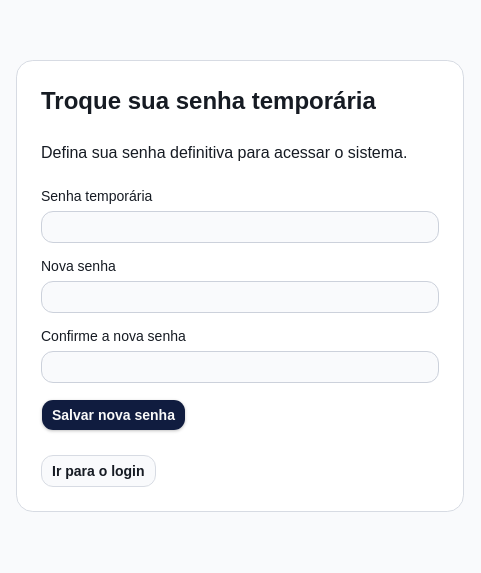
Test: timeout não repete gravação e orienta verificar com novo login
Type "temporaria" into the password field labelled "Senha temporária".
click(240, 227); type("temporaria")  # box [41,211,439,243]
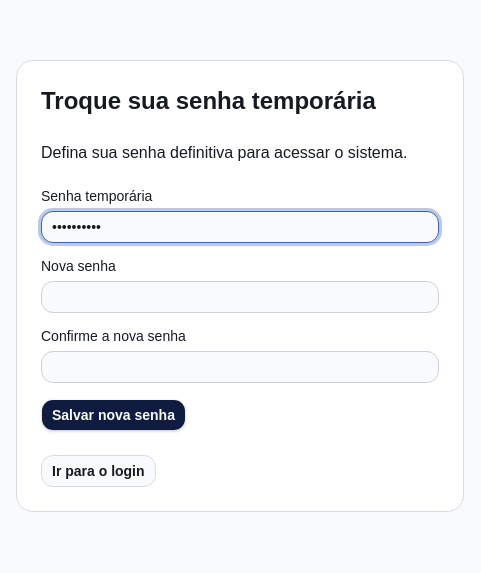
Type "definitiva123" into the password field labelled "Nova senha".
click(240, 297); type("definitiva123")  # box [41,281,439,313]
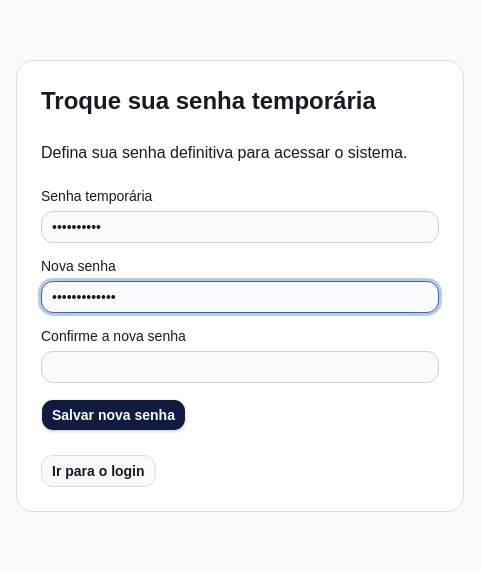
Type "definitiva123" into the password field labelled "Confirme a nova senha".
click(240, 367); type("definitiva123")  # box [41,351,439,383]
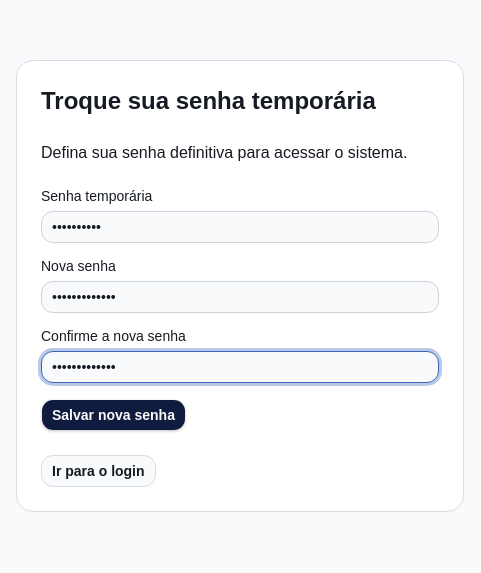
Click the button "Salvar nova senha".
click(114, 415)  # box [41,399,186,431]
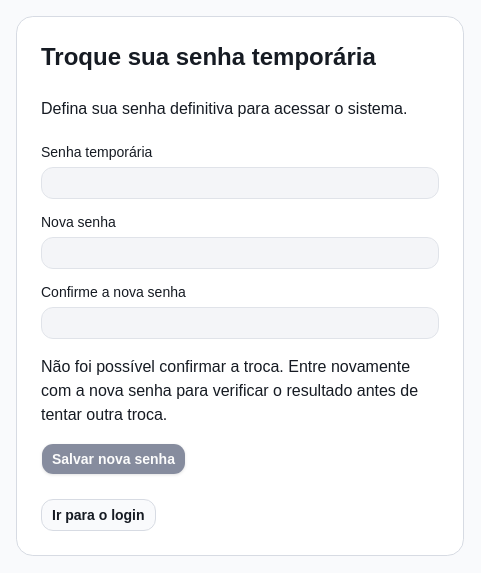
Expected: the message shows "Não foi possível confirmar", [41,358,418,423]
Expected: the button "Salvar nova senha" is disabled, [41,443,186,475]
